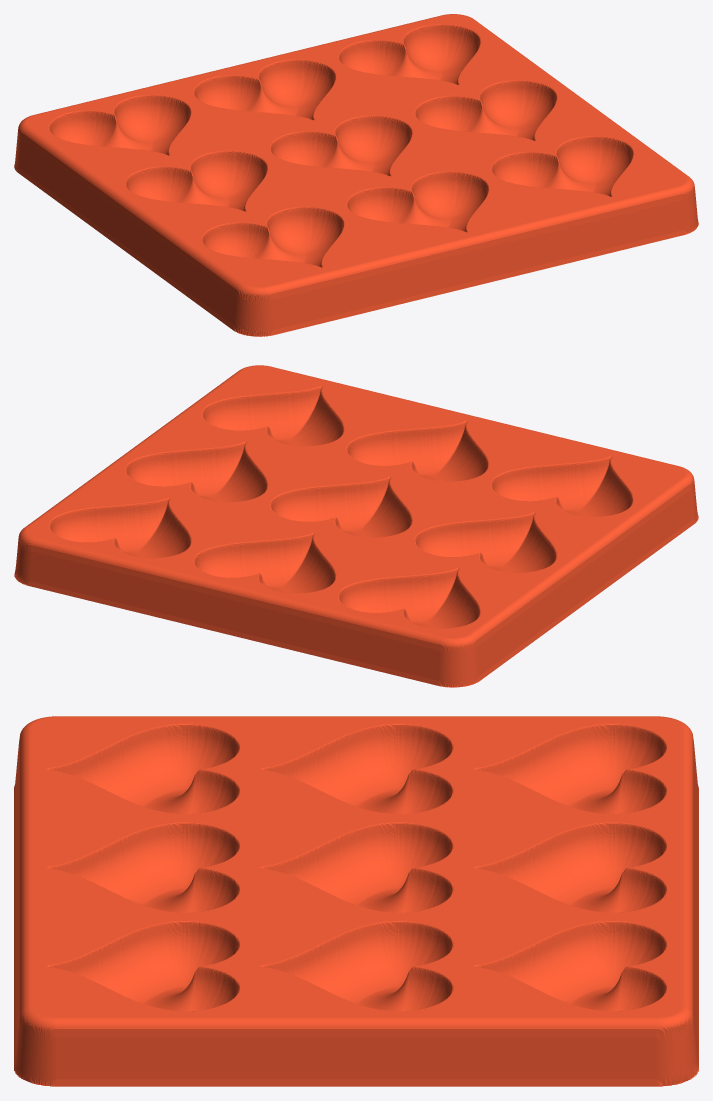
Rendered from mold.glb.
The picture shows the model from 3 angles, top to bottom: view 1: azimuth 30°, elevation 25°; view 2: azimuth 150°, elevation 25°; view 3: azimuth 270°, elevation 25°; orthographic projection. The views are drawn at different scales.
Parts seen in each view (by area): view 1: geometry_0; view 2: geometry_0; view 3: geometry_0.
Part boxes in pixels (left/top/right/bottom): geometry_0: left=14, top=14, right=698, bottom=336; geometry_0: left=14, top=365, right=698, bottom=687; geometry_0: left=14, top=716, right=698, bottom=1086.
Size of the model in its own units: 0.1579 by 0.0145 by 0.1453.
